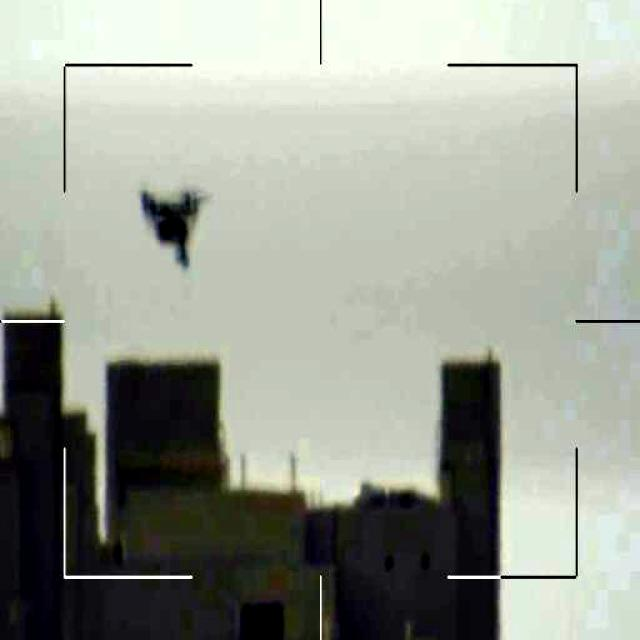bird: (138, 178, 198, 272)
